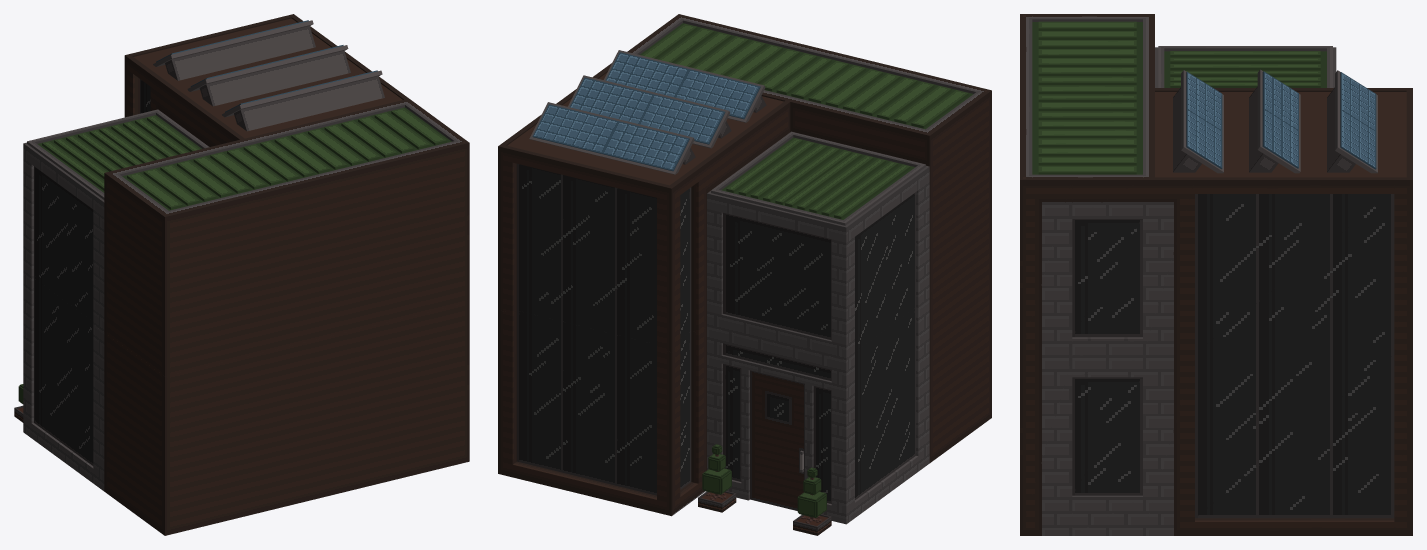
3 renders of one model, left to right at view 1: azimuth 30°, elevation 25°; view 2: azimuth 150°, elevation 25°; view 3: azimuth 270°, elevation 25°, orthographic. The views are drawn at different scales.
Parts seen in each view (by area): view 1: Floor 2-Local, 2 Floor 2-Local, Base 2-Local, Base-Local, 2 Floor 3-Local, Base 3-Local, Solar 2-Local, Solar 3-Local, Solar 1-Local; view 2: Floor 2-Local, 2 Floor 3-Local, Base-Local, Base 3-Local, 2 Floor 2-Local, Base 2-Local, Solar 1-Local, Solar 2-Local, Solar 3-Local, Plant 2-Local, Plant 1-Local; view 3: Floor 2-Local, Base-Local, 2 Floor 2-Local, 2 Floor 3-Local, Solar 2-Local, Solar 3-Local, Solar 1-Local.
Boxes of the visible parts, bbox=[...] form: Floor 2-Local: bbox=[124, 14, 469, 343]; 2 Floor 2-Local: bbox=[104, 140, 300, 376]; Base 2-Local: bbox=[104, 332, 300, 535]; Base-Local: bbox=[300, 302, 469, 502]; 2 Floor 3-Local: bbox=[23, 109, 209, 331]; Base 3-Local: bbox=[23, 273, 104, 491]; Solar 2-Local: bbox=[187, 45, 350, 106]; Solar 3-Local: bbox=[222, 70, 384, 131]; Solar 1-Local: bbox=[153, 20, 315, 80]; Floor 2-Local: bbox=[498, 14, 851, 352]; 2 Floor 3-Local: bbox=[707, 131, 929, 360]; Base-Local: bbox=[498, 310, 706, 516]; Base 3-Local: bbox=[707, 300, 929, 524]; 2 Floor 2-Local: bbox=[790, 56, 991, 299]; Base 2-Local: bbox=[929, 254, 991, 462]; Solar 1-Local: bbox=[529, 102, 695, 174]; Solar 2-Local: bbox=[568, 75, 731, 148]; Solar 3-Local: bbox=[604, 50, 766, 122]; Plant 2-Local: bbox=[793, 467, 831, 535]; Plant 1-Local: bbox=[698, 444, 736, 512]; Floor 2-Local: bbox=[1020, 88, 1412, 357]; Base-Local: bbox=[1020, 354, 1412, 535]; 2 Floor 2-Local: bbox=[1020, 14, 1154, 90]; 2 Floor 3-Local: bbox=[1155, 46, 1336, 87]; Solar 2-Local: bbox=[1249, 69, 1300, 173]; Solar 3-Local: bbox=[1173, 70, 1223, 173]; Solar 1-Local: bbox=[1327, 70, 1377, 173].
Size of the model in its own units: 256 by 274 by 256.
11 materials, 11 textured.
